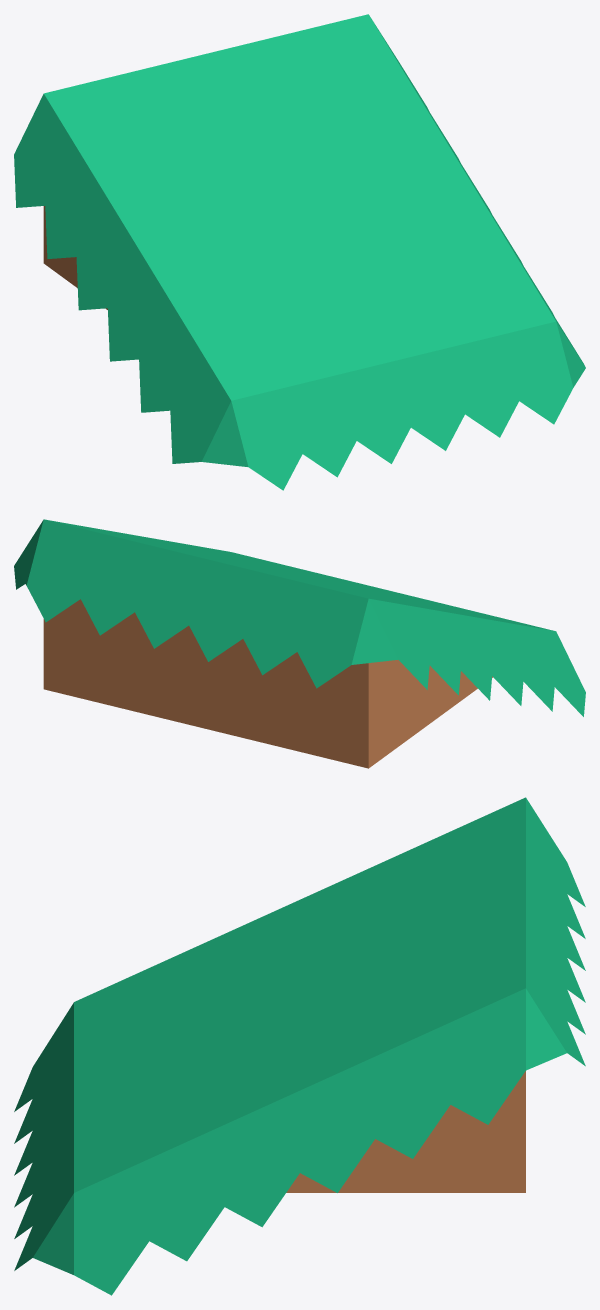
Rendered from blockSlopeHalf.fbx.
3 views of the same model, one above another, from view 1: azimuth 30°, elevation 25°; view 2: azimuth 150°, elevation 25°; view 3: azimuth 270°, elevation 25° (orthographic). The views are drawn at different scales.
Visible parts, largest first — view 1: blockSlopeHalf; view 2: blockSlopeHalf; view 3: blockSlopeHalf.
Boxes of the visible parts, x1,y1,x2,y2 form: blockSlopeHalf: [14, 14, 585, 490]; blockSlopeHalf: [14, 519, 585, 768]; blockSlopeHalf: [14, 797, 585, 1295].
Size of the model in its own units: 12.66 by 7.3 by 12.66.
